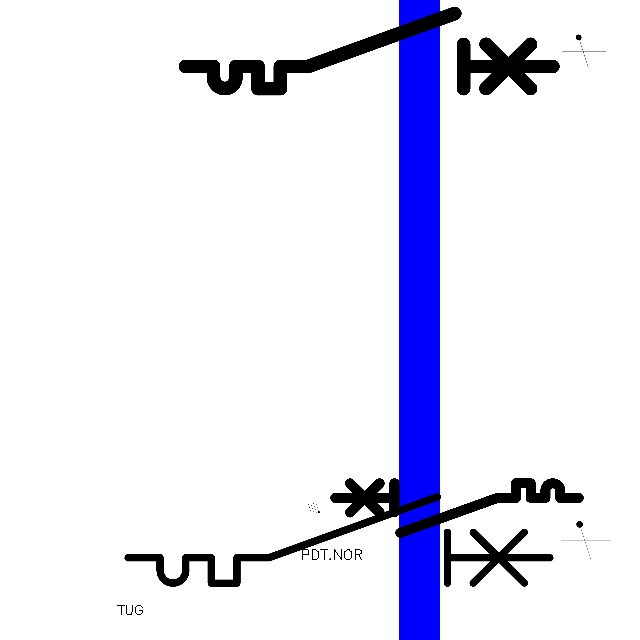interruptor_termomagnetico: (117, 486, 561, 594), (176, 4, 562, 98), (328, 477, 584, 539)
